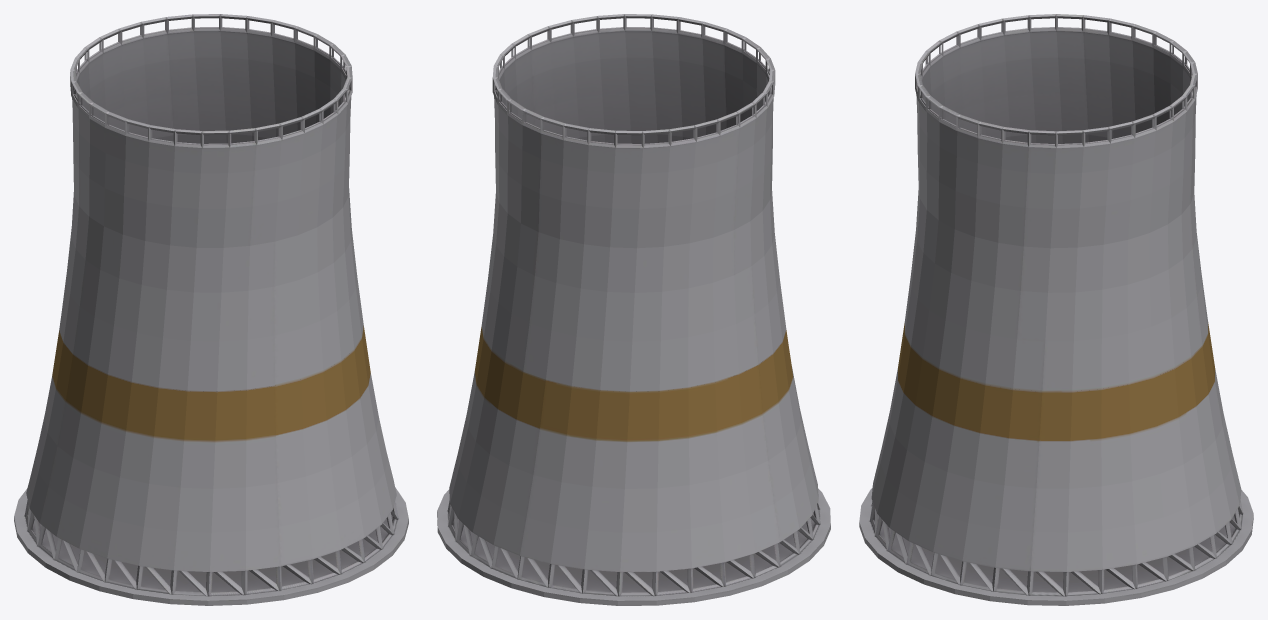
The model's file is nuclearbuilding1.glb.
3 views of the same model, side by side, from view 1: azimuth 30°, elevation 25°; view 2: azimuth 150°, elevation 25°; view 3: azimuth 270°, elevation 25° (orthographic).
Visible parts, largest first — view 1: Cylinder.008, Cylinder.009, Cylinder.010, Cylinder.006; view 2: Cylinder.008, Cylinder.009, Cylinder.010, Cylinder.006; view 3: Cylinder.008, Cylinder.009, Cylinder.010, Cylinder.006.
Boxes of the visible parts, x1,y1,x2,y2 form: Cylinder.008: [26, 31, 396, 571]; Cylinder.009: [14, 487, 408, 605]; Cylinder.010: [70, 14, 352, 147]; Cylinder.006: [24, 500, 398, 596]; Cylinder.008: [449, 31, 818, 572]; Cylinder.009: [437, 489, 830, 605]; Cylinder.010: [492, 14, 775, 148]; Cylinder.006: [447, 500, 820, 596]; Cylinder.008: [871, 31, 1241, 571]; Cylinder.009: [859, 488, 1253, 605]; Cylinder.010: [915, 14, 1197, 148]; Cylinder.006: [870, 499, 1242, 596].
Size of the model in its own units: 1.49 by 1.87 by 1.49.
Materials: 3 (3 with a texture image).
